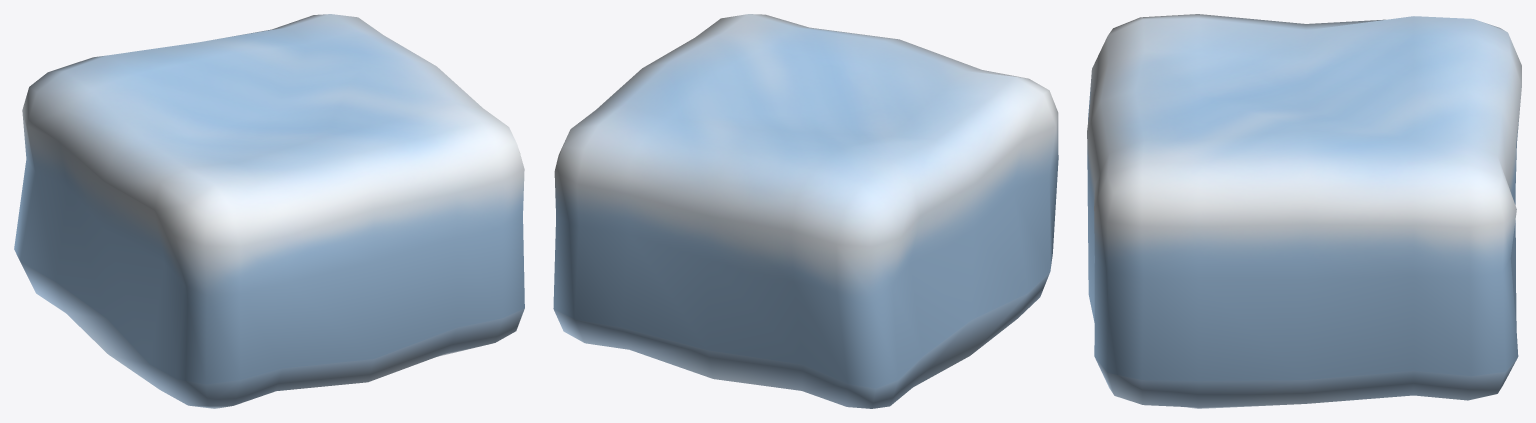
The model's file is iceblock_sliced4.fbx.
The picture shows the model from 3 angles, left to right: view 1: azimuth 30°, elevation 25°; view 2: azimuth 150°, elevation 25°; view 3: azimuth 270°, elevation 25°; orthographic projection. The views are drawn at different scales.
Visible parts, largest first — view 1: 얼음2; view 2: 얼음2; view 3: 얼음2.
Part boxes in pixels (<box>): 얼음2: <box>14,14,524,408</box>; 얼음2: <box>553,14,1058,408</box>; 얼음2: <box>1087,14,1521,408</box>.
Size of the model in its own units: 203 by 134 by 202.
